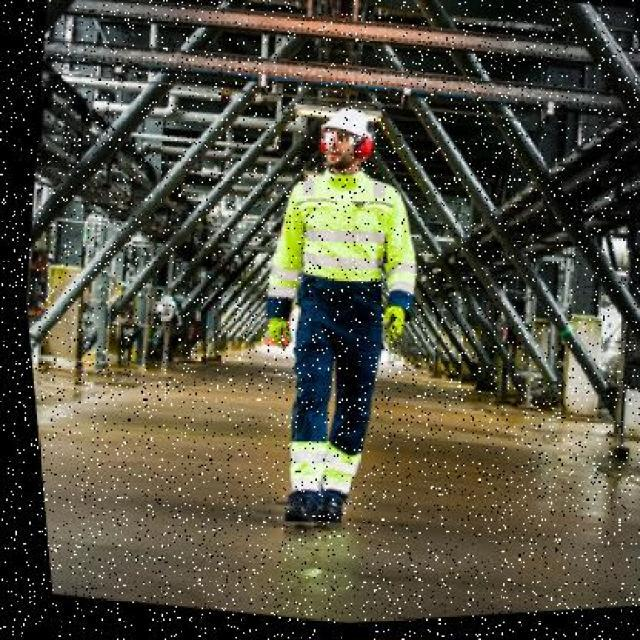helmet: (297, 102, 389, 172)
vest: (248, 157, 430, 325)
